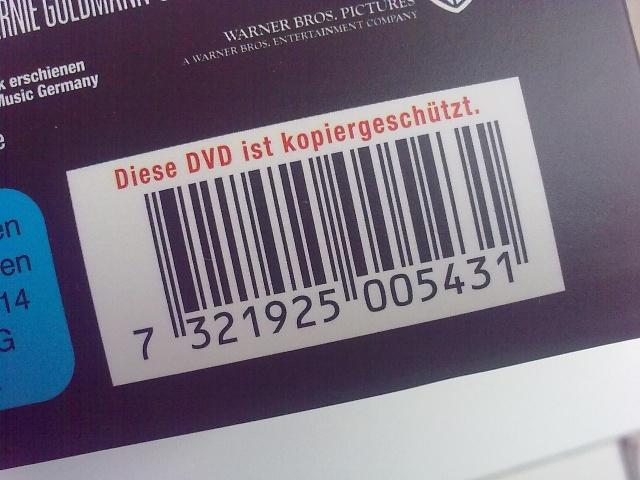Barcode: (126, 122, 534, 369)
